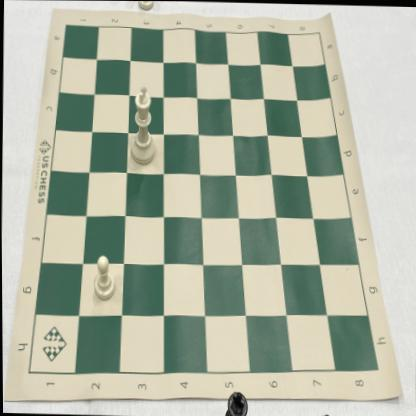white-king: (126, 81, 158, 167)
white-pawn: (88, 249, 119, 304)
